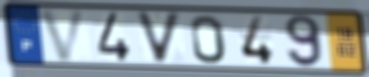0: (188, 13, 229, 65)
4: (239, 14, 275, 66), (96, 12, 132, 63)
9: (285, 14, 325, 69)
V: (37, 8, 89, 63), (133, 10, 184, 65)
